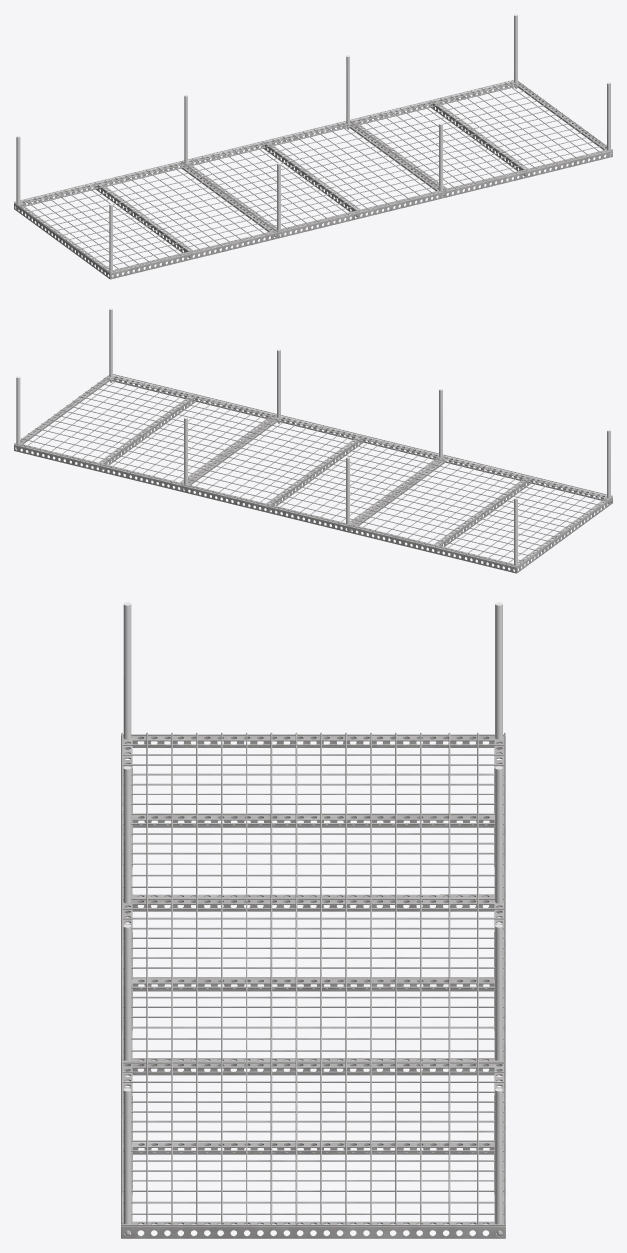
The picture shows the model from 3 angles, top to bottom: view 1: azimuth 30°, elevation 25°; view 2: azimuth 150°, elevation 25°; view 3: azimuth 270°, elevation 25°; orthographic projection. The views are drawn at different scales.
Parts seen in each view (by area): view 1: Grill003, Rods003; view 2: Grill003, Rods003; view 3: Grill003, Rods003.
Part boxes in pixels (left/top/right/bottom): Grill003: left=14, top=80, right=612, bottom=279; Rods003: left=16, top=14, right=610, bottom=277; Grill003: left=14, top=374, right=612, bottom=573; Rods003: left=16, top=308, right=610, bottom=571; Grill003: left=121, top=732, right=505, bottom=1238; Rods003: left=123, top=602, right=502, bottom=1235.
Bounding box in the file's own units: 93.35 × 12.99 × 30.94.
2 materials, 2 textured.
